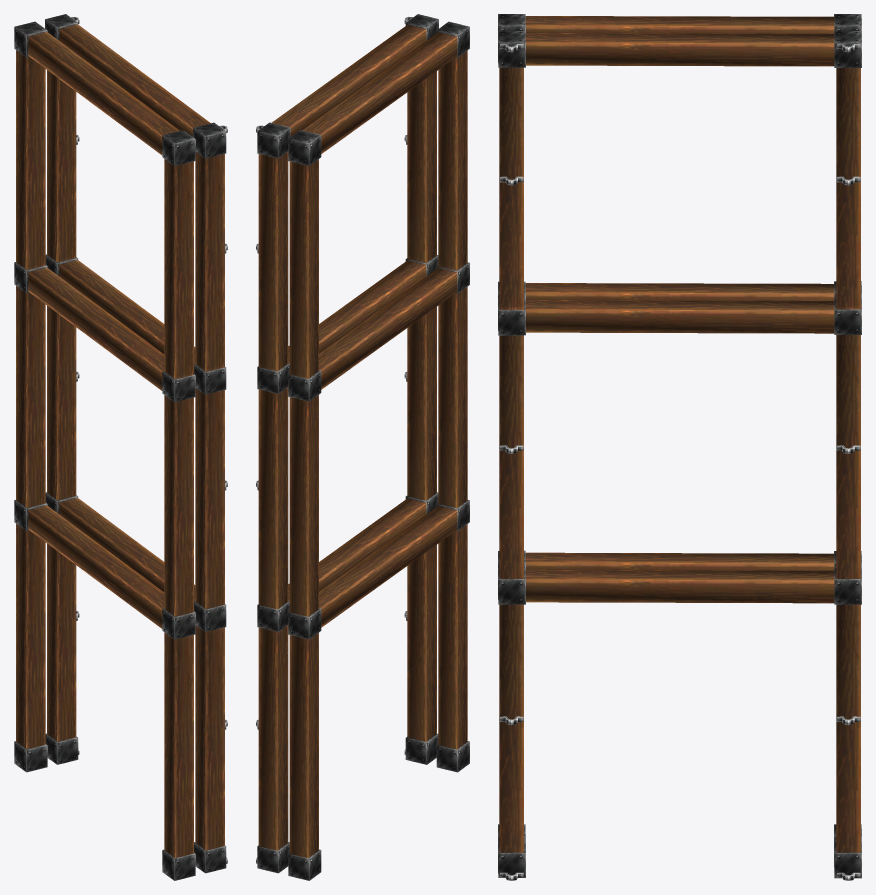
The model's file is SWORDLIGHT20_MAINGATEBRACKET01.fbx.
3 renders of one model, left to right at view 1: azimuth 30°, elevation 25°; view 2: azimuth 150°, elevation 25°; view 3: azimuth 270°, elevation 25°, orthographic. The views are drawn at different scales.
Visible parts, largest first — view 1: SWORDLIGHT20_MAINGATEBRACKET01; view 2: SWORDLIGHT20_MAINGATEBRACKET01; view 3: SWORDLIGHT20_MAINGATEBRACKET01.
Part boxes in pixels (left/top/right/bottom): SWORDLIGHT20_MAINGATEBRACKET01: left=14, top=14, right=227, bottom=880; SWORDLIGHT20_MAINGATEBRACKET01: left=256, top=14, right=469, bottom=880; SWORDLIGHT20_MAINGATEBRACKET01: left=498, top=14, right=861, bottom=880.
Bounding box in the file's own units: 12518 × 150157 × 59274.
3 materials, 3 textured.
